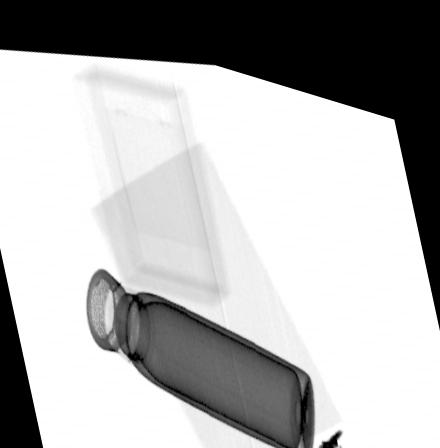Scissors: (295, 410, 343, 446)
